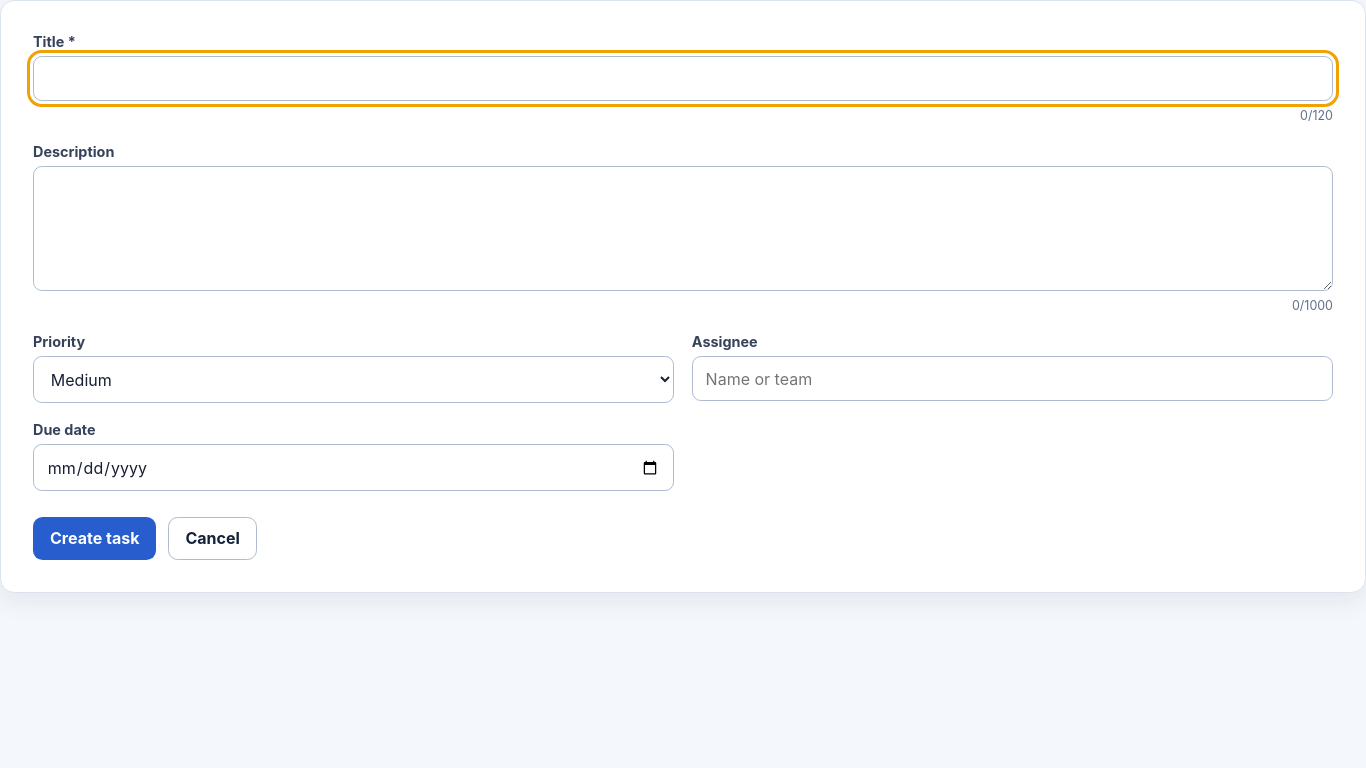
Test: TaskForm › shows a validation message when the title is empty
Click the button "Create task": (95, 538) x1=33 y1=517 x2=156 y2=560
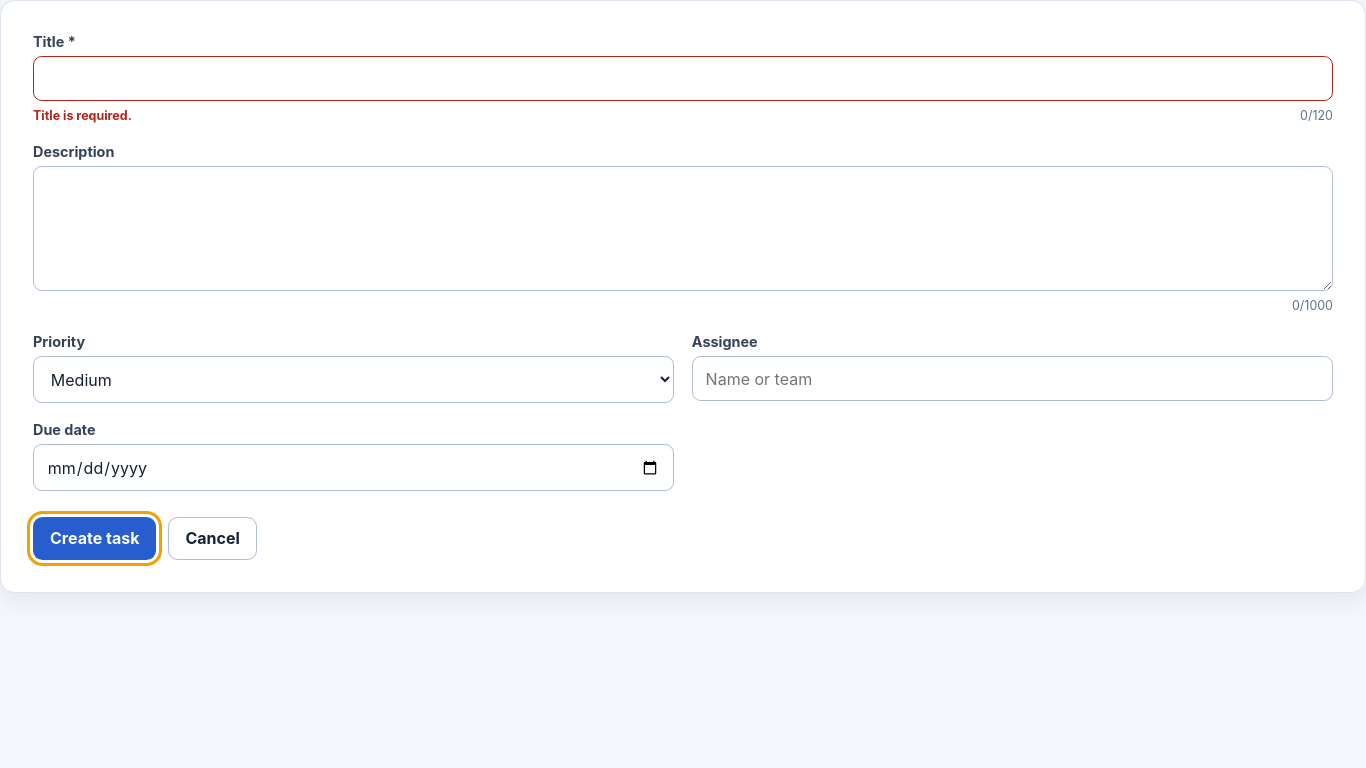
Result: the text "Title is required." is shown at x1=33 y1=108 x2=132 y2=123
